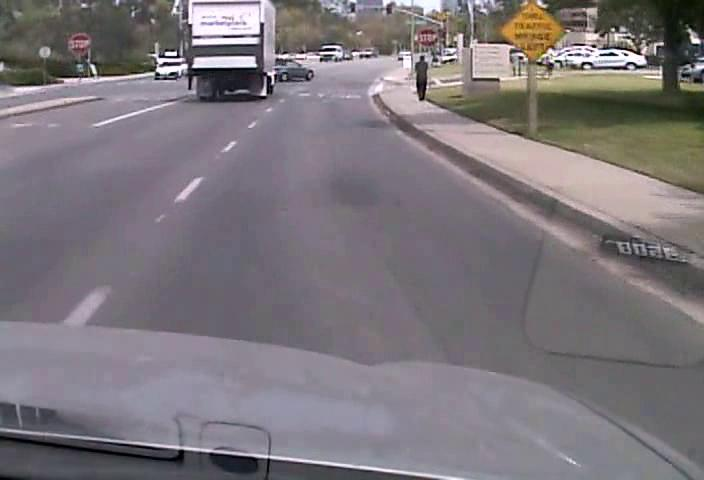stop: (418, 27, 438, 47)
